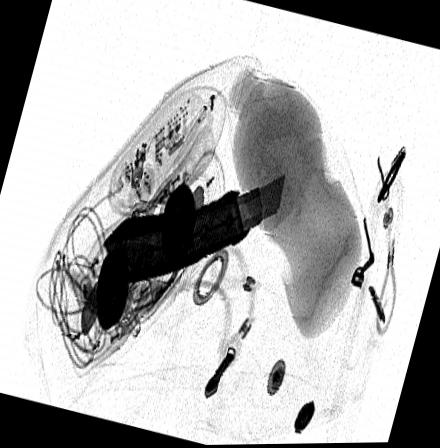Knife: (102, 174, 287, 285)
